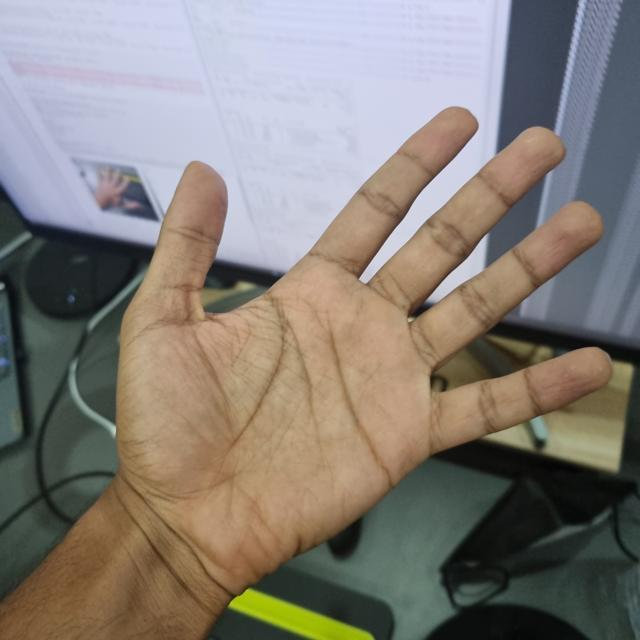Paper: (112, 108, 607, 594)
